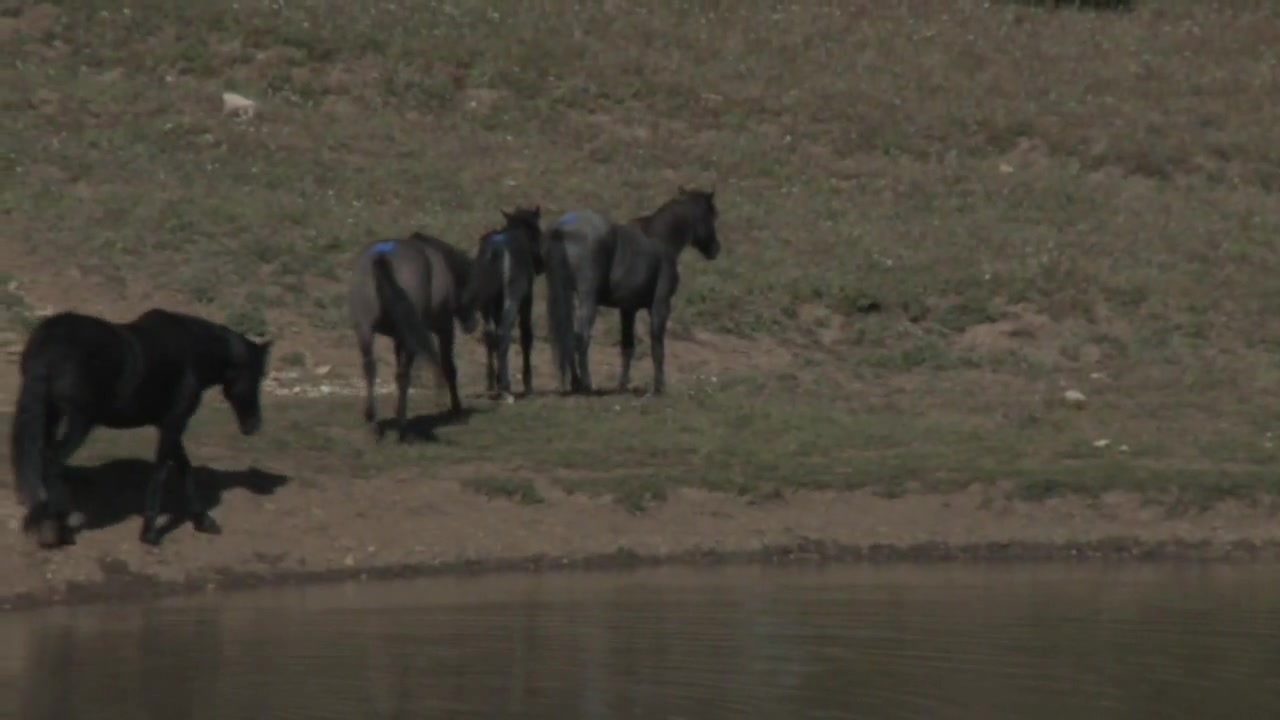horse: (10, 306, 275, 551), (543, 186, 726, 401), (337, 231, 473, 433), (467, 196, 556, 408)
